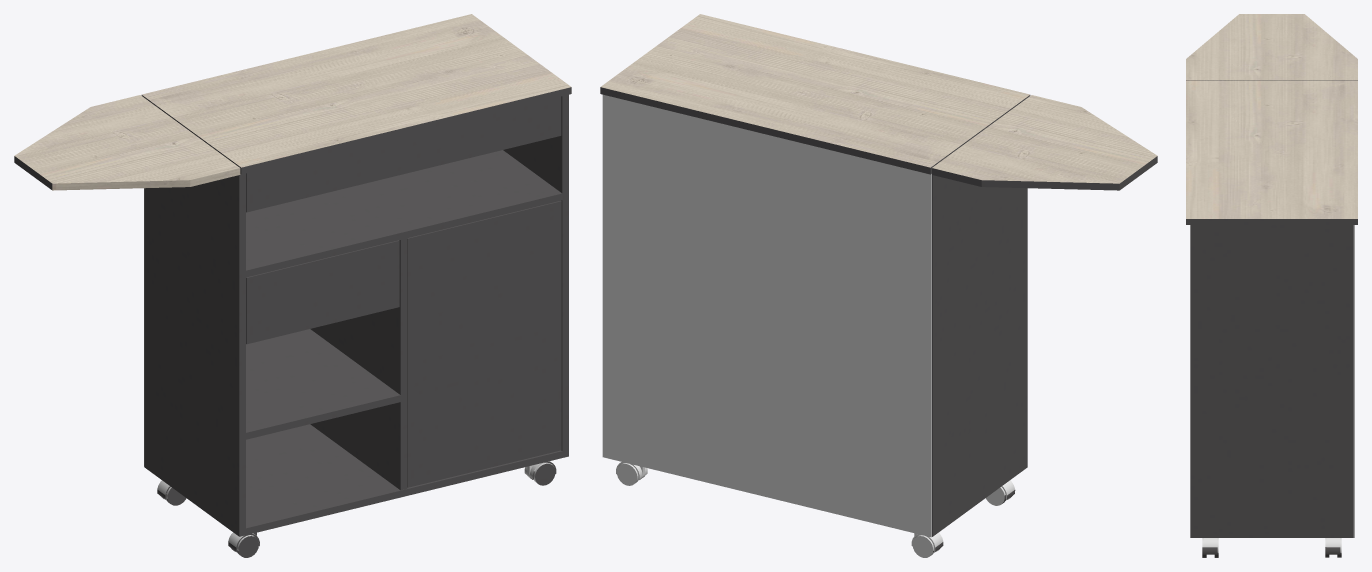
File: dazmol.glb
The picture shows the model from 3 angles, left to right: view 1: azimuth 30°, elevation 25°; view 2: azimuth 150°, elevation 25°; view 3: azimuth 270°, elevation 25°; orthographic projection. The views are drawn at different scales.
Parts seen in each view (by area): view 1: Dazmol; view 2: Dazmol; view 3: Dazmol.
Boxes of the visible parts, x1,y1,x2,y2 form: Dazmol: (14,14,571,557); Dazmol: (600,14,1157,557); Dazmol: (1186,14,1357,557).
Size of the model in its own units: 1 by 0.7876 by 0.3553.
3 materials, 3 textured.
